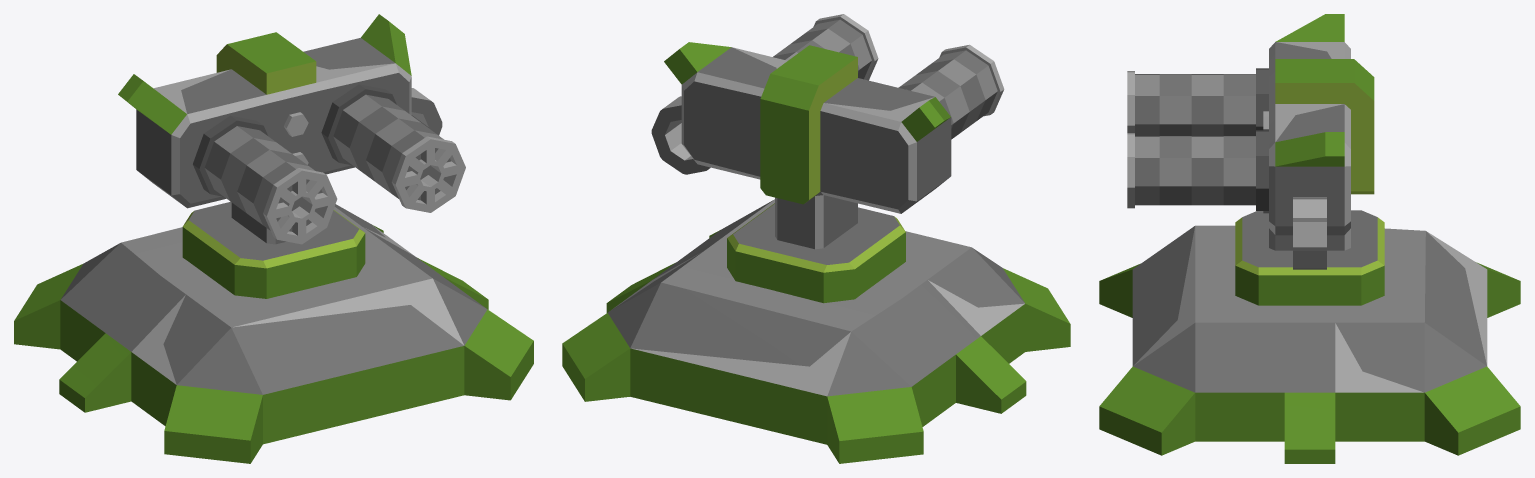
File: tower_gatling_green_2.fbx
The picture shows the model from 3 angles, left to right: view 1: azimuth 30°, elevation 25°; view 2: azimuth 150°, elevation 25°; view 3: azimuth 270°, elevation 25°; orthographic projection. The views are drawn at different scales.
Parts seen in each view (by area): view 1: tower_gatling_green_2, top_gatling_green_2; view 2: tower_gatling_green_2, top_gatling_green_2; view 3: tower_gatling_green_2, top_gatling_green_2.
Boxes of the visible parts, x1,y1,x2,y2 form: tower_gatling_green_2: (14, 204, 533, 463); top_gatling_green_2: (118, 14, 465, 298); tower_gatling_green_2: (562, 199, 1070, 463); top_gatling_green_2: (651, 14, 1004, 303); tower_gatling_green_2: (1099, 225, 1520, 463); top_gatling_green_2: (1127, 14, 1384, 305).
Size of the model in its own units: 173 by 122 by 158.
